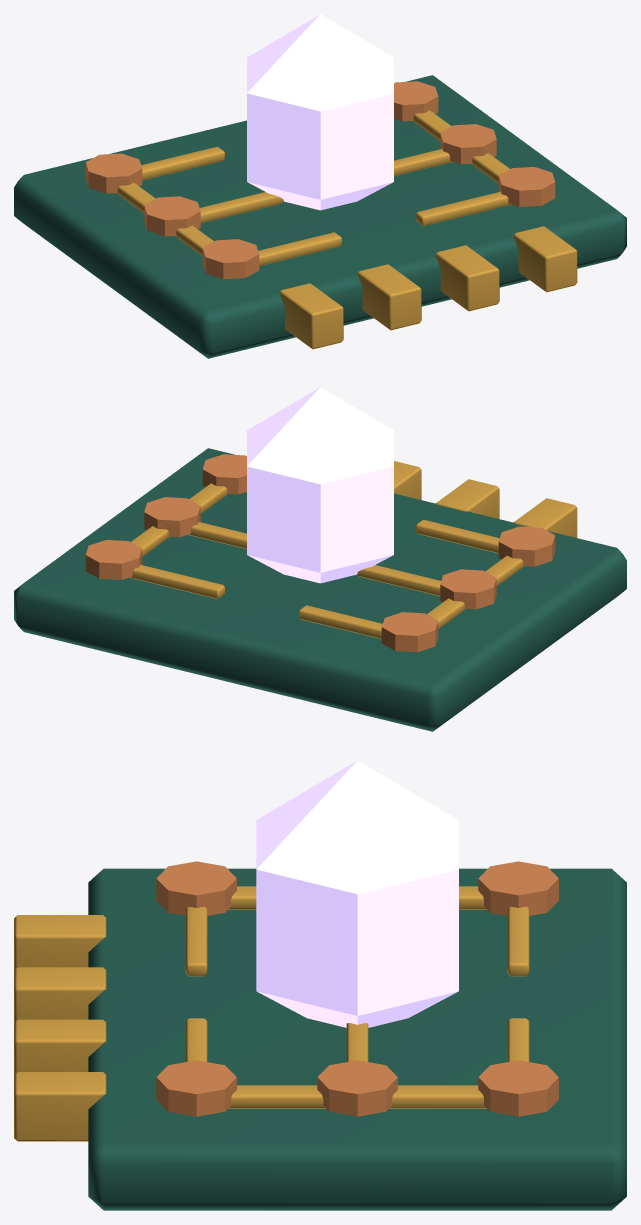
File: circuit.glb
3 renders of one model, top to bottom at view 1: azimuth 30°, elevation 25°; view 2: azimuth 150°, elevation 25°; view 3: azimuth 270°, elevation 25°, orthographic. The views are drawn at different scales.
Visible parts, largest first — view 1: Circuit board, Crystal, Connector.002, Connector.001, Connector.003, Connector, Terminal, Terminal.003, Terminal.002, Terminal.001, Terminal.004, Terminal.005 (+7 smaller); view 2: Circuit board, Crystal, Terminal.002, Terminal.005, Terminal, Terminal.001, Terminal.004, Connector.001, Connector, Terminal.003, Circuit trace.005, Circuit trace (+6 smaller); view 3: Circuit board, Crystal, Connector.003, Connector.002, Connector.001, Connector, Copper track.001, Terminal.003, Terminal.005, Terminal.004, Terminal.002, Terminal (+6 smaller).
Boxes of the visible parts, <box> form: Circuit board: <box>14,75,626,358</box>; Crystal: <box>247,14,393,210</box>; Connector.002: <box>435,245,499,311</box>; Connector.001: <box>357,264,421,330</box>; Connector.003: <box>513,226,577,292</box>; Connector: <box>279,283,343,349</box>; Terminal: <box>202,239,259,279</box>; Terminal.003: <box>498,167,555,206</box>; Terminal.002: <box>85,153,142,193</box>; Terminal.001: <box>144,196,200,236</box>; Terminal.004: <box>440,124,496,164</box>; Terminal.005: <box>394,81,438,121</box>; Circuit board: <box>14,448,626,731</box>; Crystal: <box>247,387,393,583</box>; Terminal.002: <box>381,612,438,652</box>; Terminal.005: <box>85,540,142,579</box>; Terminal: <box>498,526,555,566</box>; Terminal.001: <box>440,569,496,609</box>; Terminal.004: <box>144,497,200,537</box>; Connector.001: <box>436,479,499,518</box>; Connector: <box>514,498,577,537</box>; Terminal.003: <box>202,454,246,494</box>; Circuit trace.005: <box>129,564,224,598</box>; Circuit trace: <box>416,519,499,553</box>; Circuit board: <box>88,868,626,1210</box>; Crystal: <box>256,760,458,1027</box>; Connector.003: <box>14,1072,106,1141</box>; Connector.002: <box>14,1019,106,1074</box>; Connector.001: <box>14,967,106,1022</box>; Connector: <box>14,915,106,970</box>; Copper track.001: <box>228,1085,486,1108</box>; Terminal.003: <box>156,1060,236,1116</box>; Terminal.005: <box>478,1060,558,1116</box>; Terminal.004: <box>317,1060,397,1116</box>; Terminal.002: <box>478,861,558,915</box>; Terminal: <box>156,861,236,915</box>.
Bounding box in the file's own units: 1.1 × 0.5575 × 0.99.
